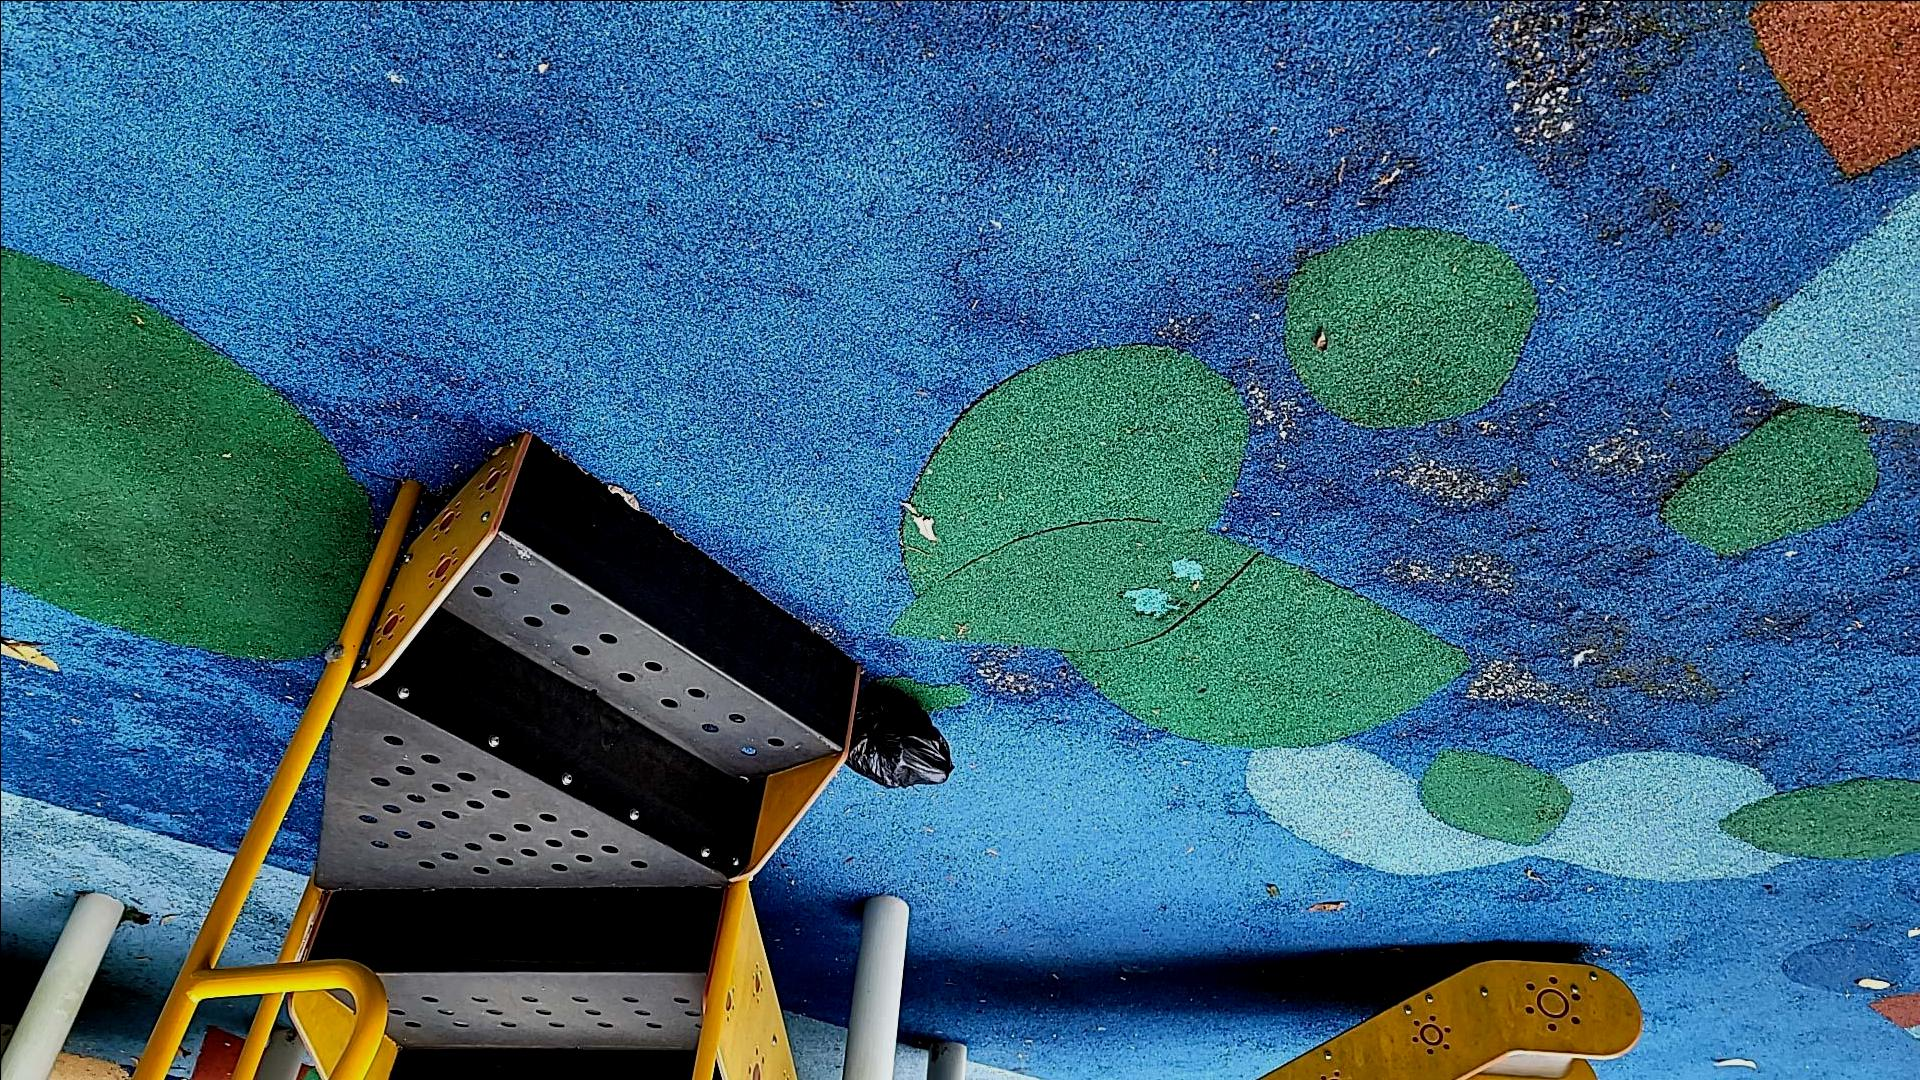black_bag: (833, 684, 957, 793)
